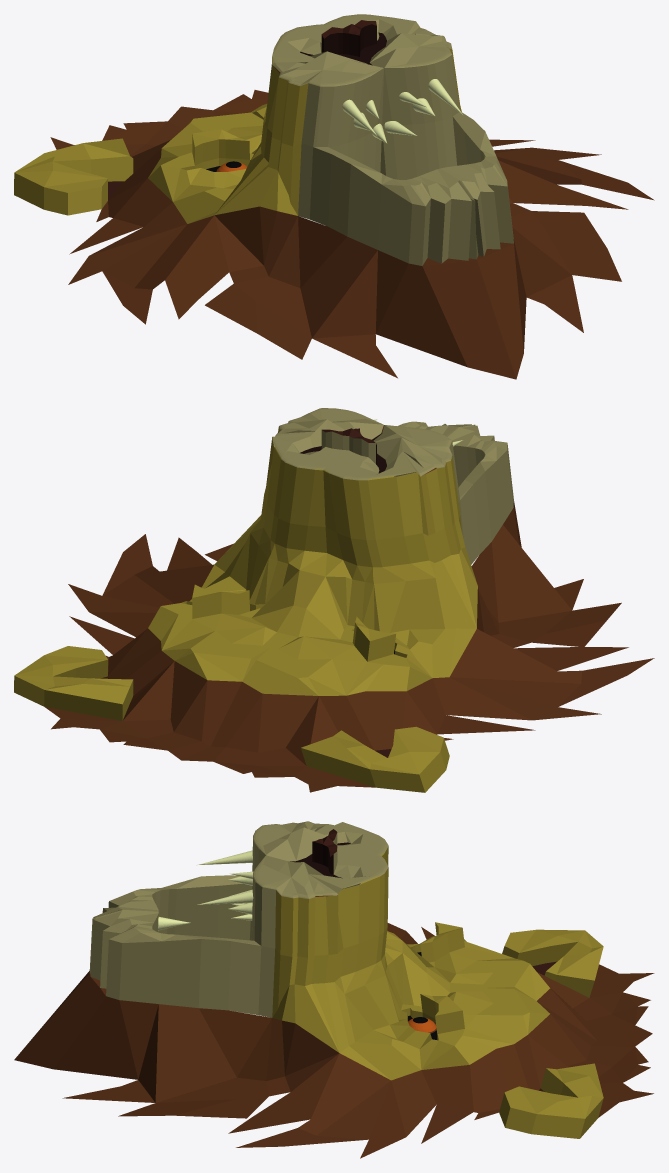
The model's file is lion head.fbx.
3 views of the same model, one above another, from view 1: azimuth 30°, elevation 25°; view 2: azimuth 150°, elevation 25°; view 3: azimuth 270°, elevation 25° (orthographic). The views are drawn at different scales.
Visible parts, largest first — view 1: Cube; view 2: Cube; view 3: Cube.
Part boxes in pixels (bbox=[...]): Cube: bbox=[14, 14, 654, 379]; Cube: bbox=[14, 408, 654, 792]; Cube: bbox=[14, 821, 654, 1158].
Size of the model in its own units: 2247 by 945 by 2449.
